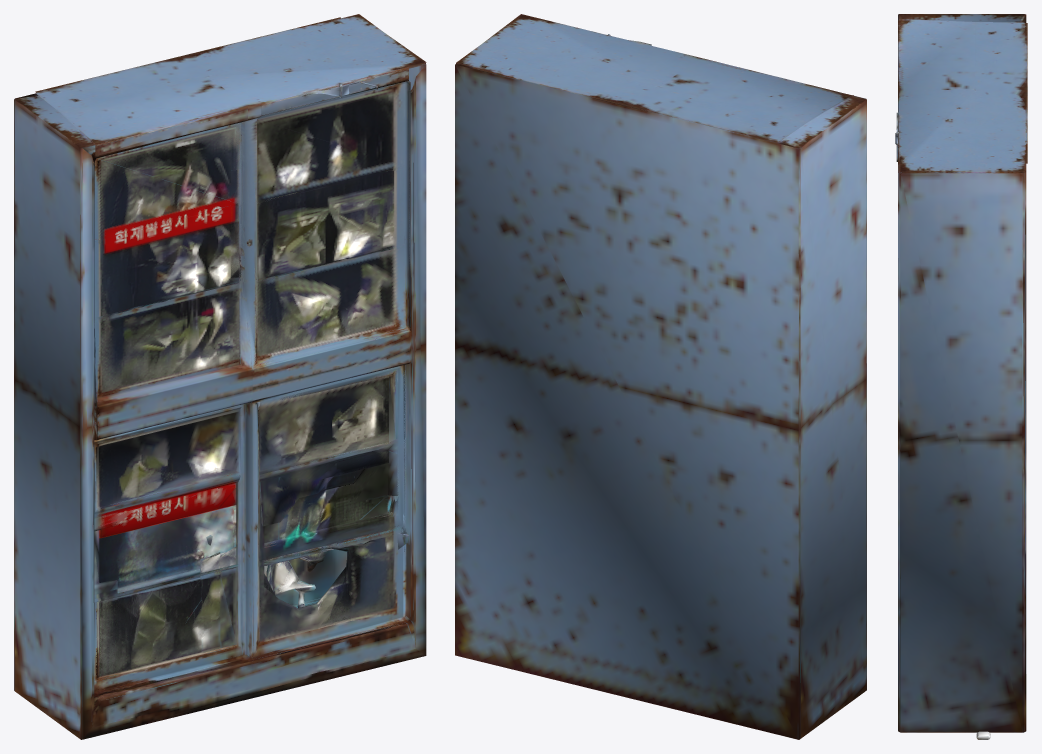
Rendered from Meshy_AI_Rusty_Blue_Fire_Equip_0519010857_texture.fbx.
The picture shows the model from 3 angles, left to right: view 1: azimuth 30°, elevation 25°; view 2: azimuth 150°, elevation 25°; view 3: azimuth 270°, elevation 25°; orthographic projection. The views are drawn at different scales.
Visible parts, largest first — view 1: Mesh_0; view 2: Mesh_0; view 3: Mesh_0.
Part boxes in pixels (x1,y1,x2,y2): Mesh_0: (14,14,426,739); Mesh_0: (455,14,866,739); Mesh_0: (895,14,1027,739).
Bounding box in the file's own units: 122 × 191 × 40.7.
Materials: 1 (1 with a texture image).
